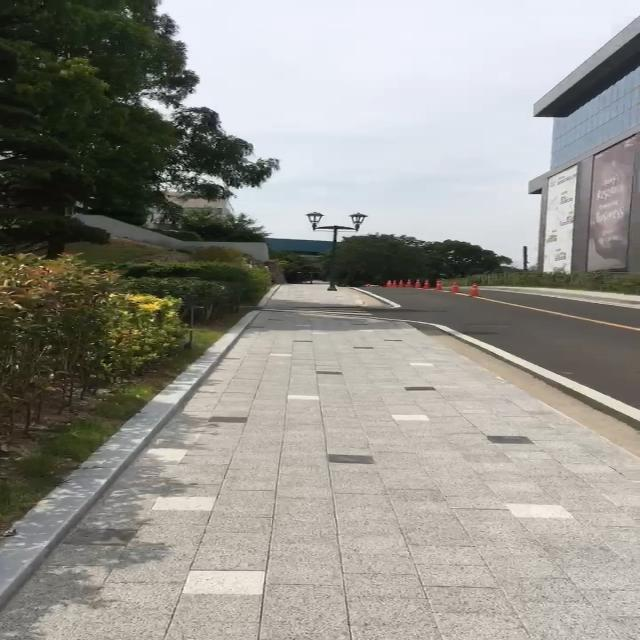sidewalk: (481, 286, 640, 310), (246, 282, 369, 309)
